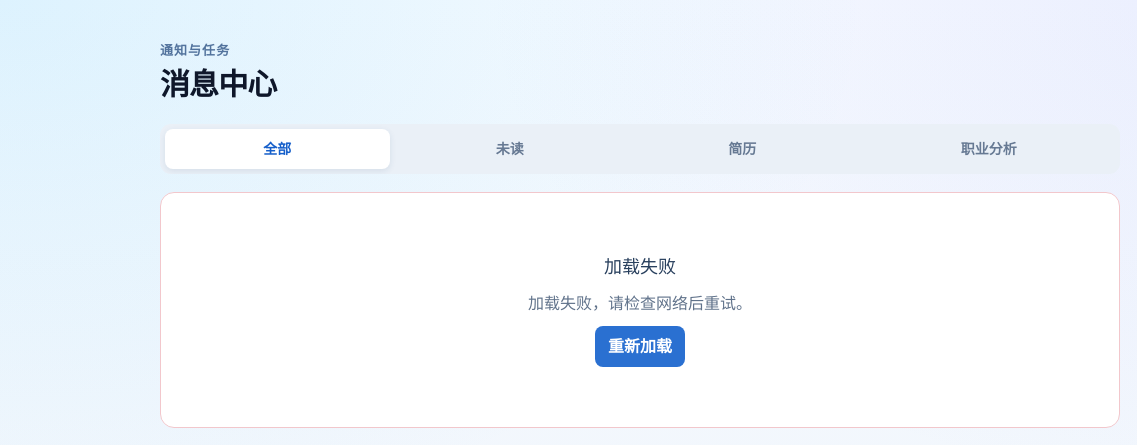
Test: MessageCenter › shows a visible error state and retries instead of presenting a failed request as empty
expect the message with test id "message-error" shows "加载失败": met, box [604,256,676,277]
What coordinates should you click on to do the following:
click the button with test id "message-retry"
I would click on:
 (640, 346)
Its box is [595,326,685,367].
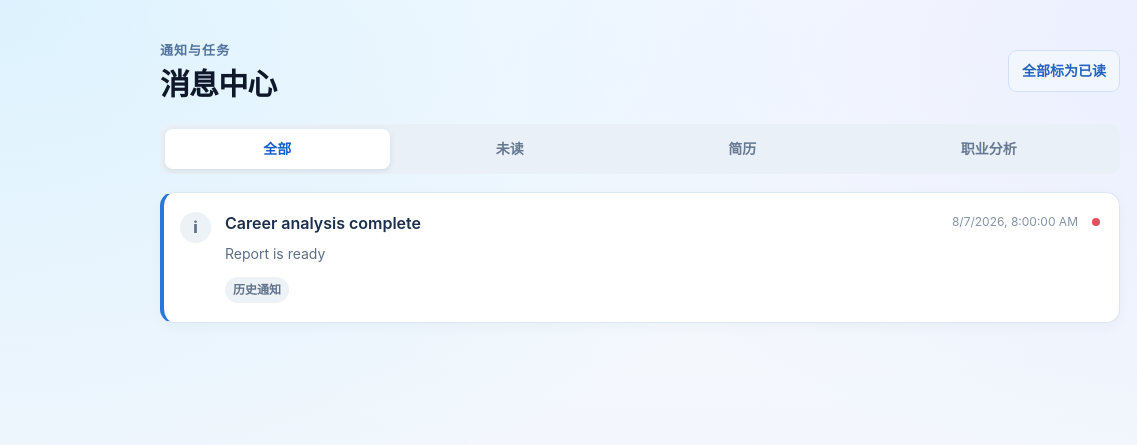
expect the element with class "msg-card" shows "Career analysis complete": met, box [225,213,421,233]
